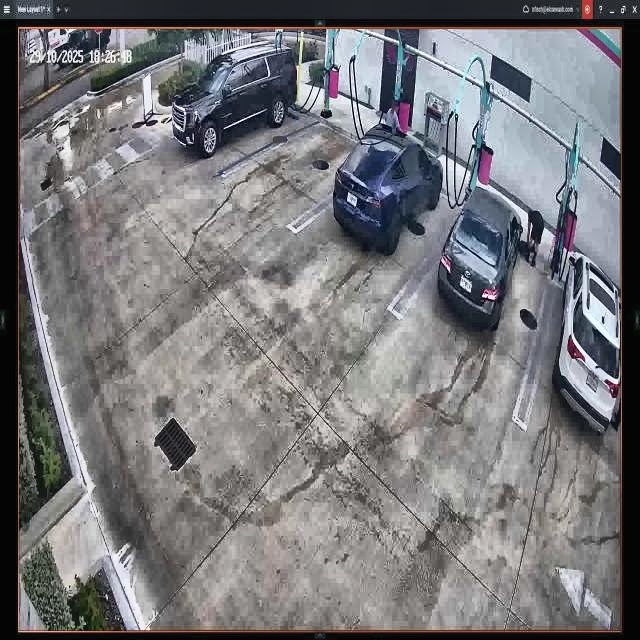Car: (332, 126, 443, 252), (438, 190, 522, 328)
